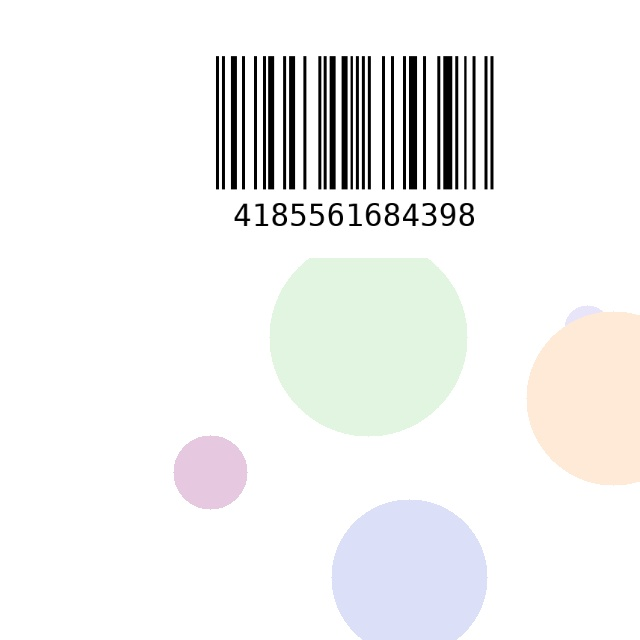barcode: (159, 48, 550, 258)
